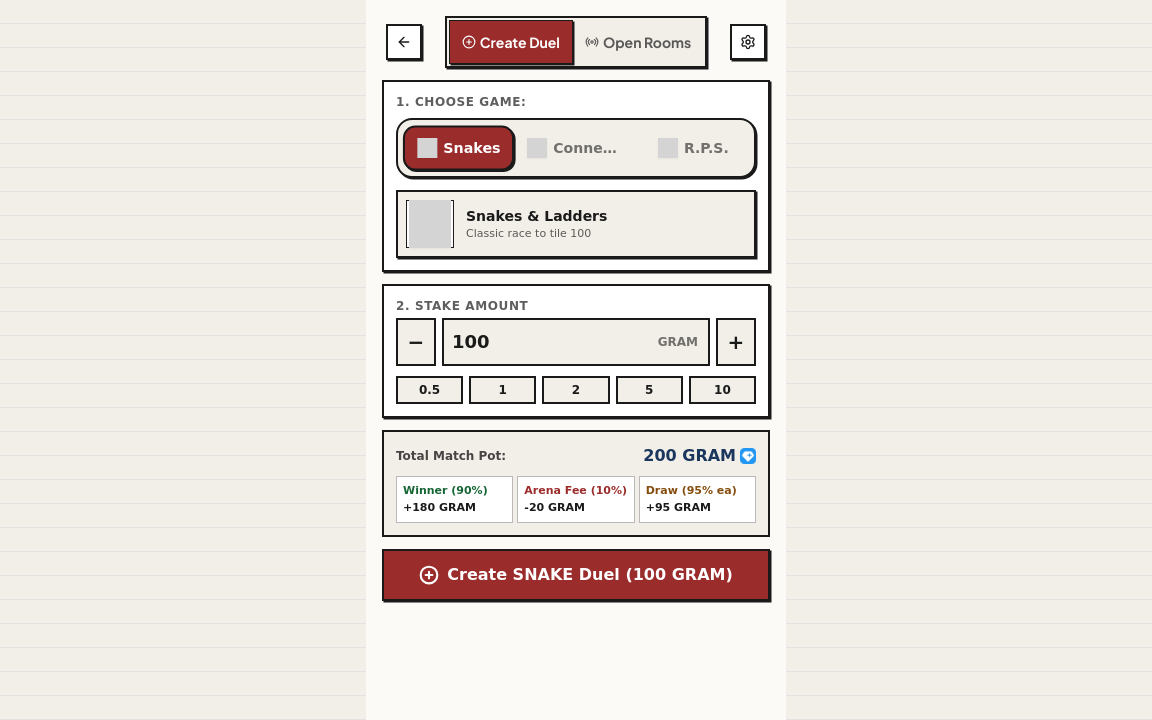
Scenario: LobbyScreen Component Tests › should open stake confirm modal when clicking Create Duel CTA
Click the button "Create SNAKE Duel (100 GRAM)" at (576, 575), box [382,549,770,601]
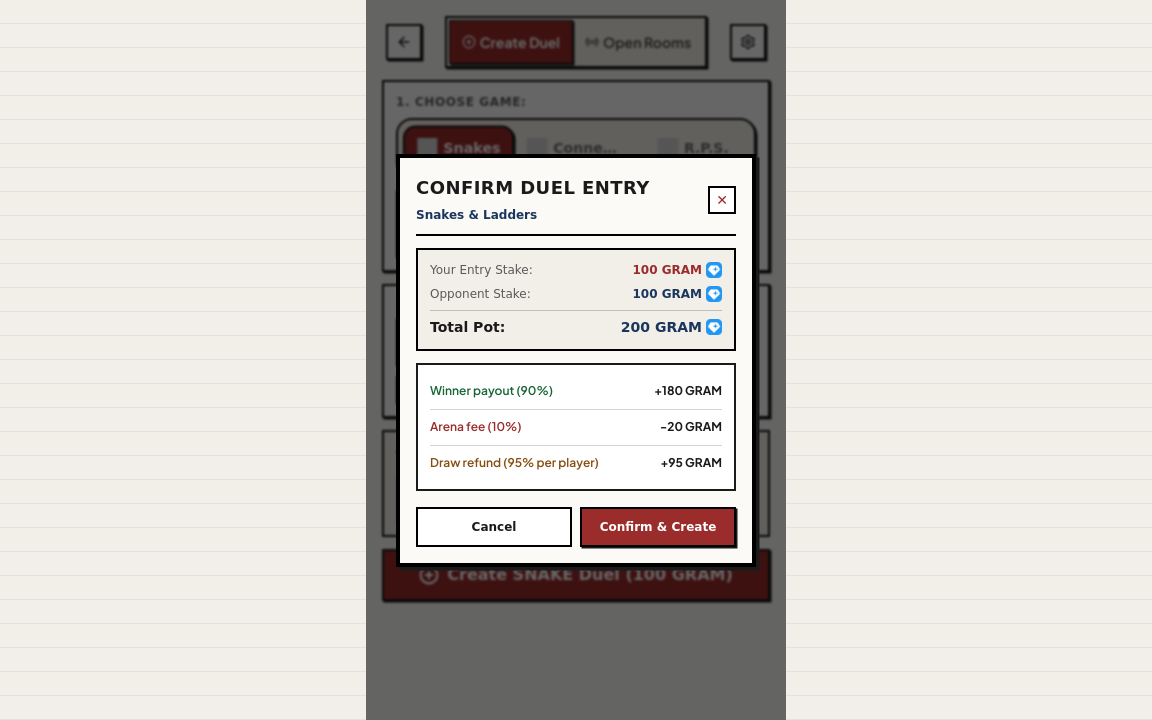
Check: the heading "Confirm Duel Entry" is shown, box [416,174,650,202]
